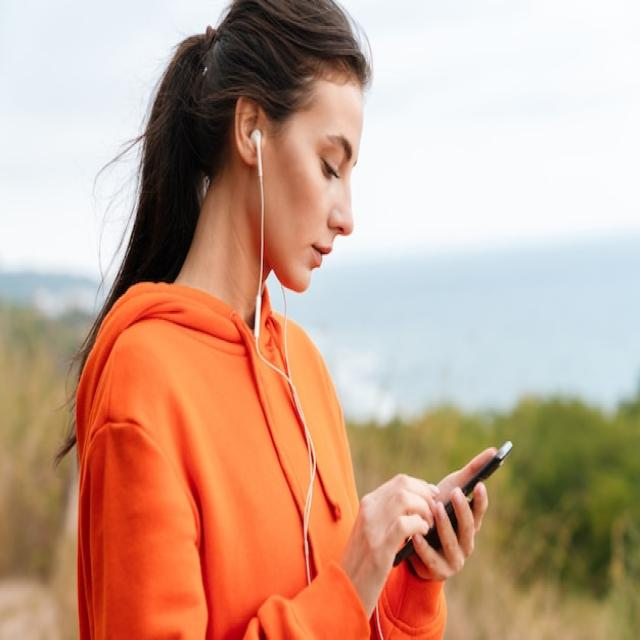Earphone: (248, 125, 320, 584)
